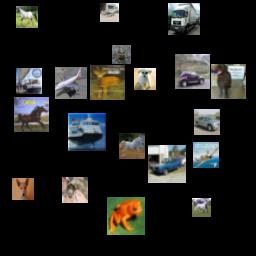airplane: (55, 67, 87, 99), (193, 142, 219, 168), (100, 3, 119, 22)
automobile: (148, 145, 186, 183), (175, 54, 210, 89), (194, 109, 220, 135)
cat: (62, 177, 88, 203)
deer: (90, 65, 125, 100)
dog: (211, 64, 246, 99), (134, 68, 156, 90), (12, 178, 34, 200)
frog: (107, 197, 145, 235), (112, 45, 131, 64)
ship: (68, 113, 106, 151), (16, 68, 42, 94)
truck: (168, 3, 200, 35)
